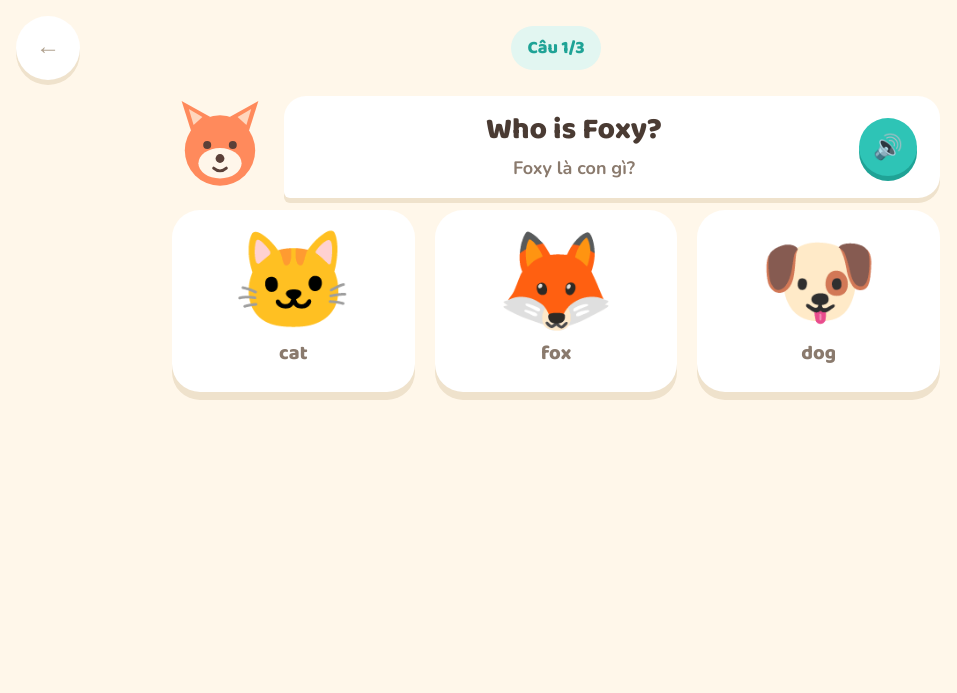
Test: 0 correct: 0 stars, idle Foxy, no store write, activity still logged
Click the button "🐱 cat" at (293, 300), box [172, 210, 415, 392]
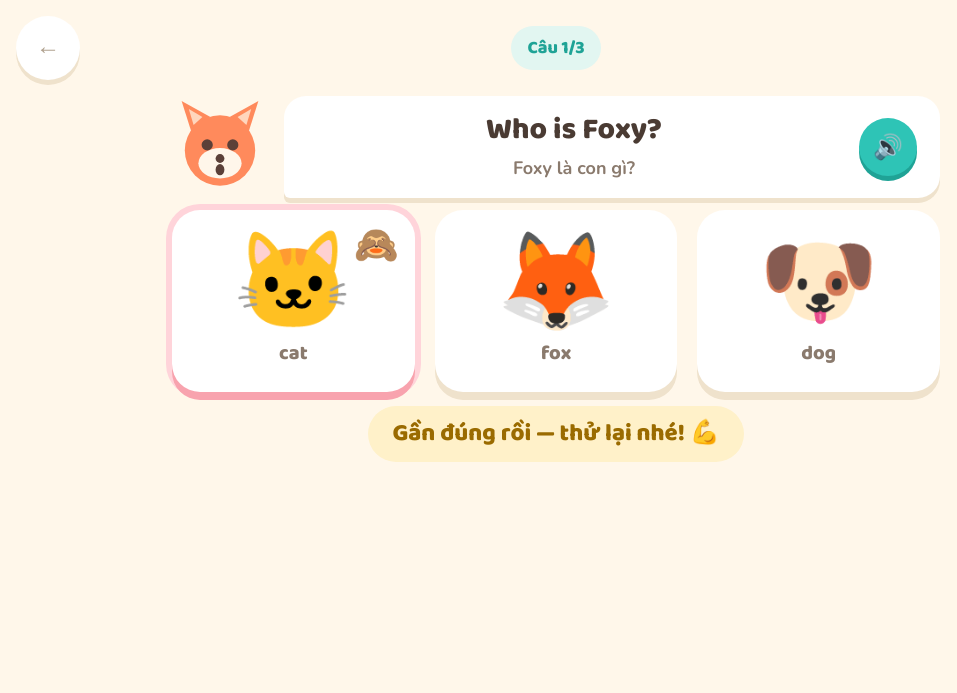
Click the button "🦊 fox" at (556, 300), box [435, 210, 677, 392]
Wait 900 ms
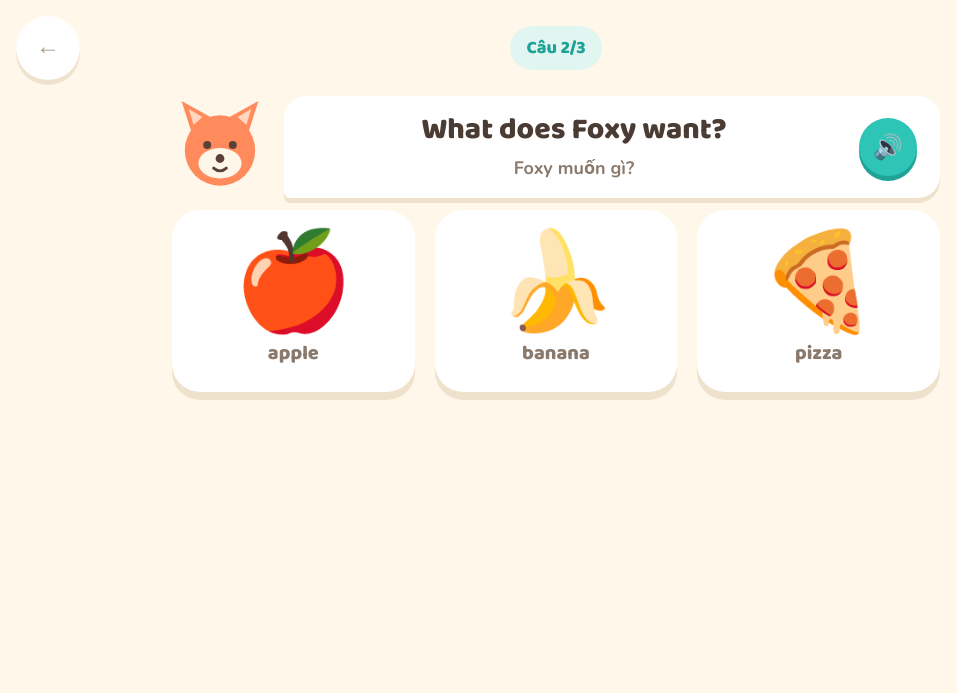
Click the button "🍌 banana" at (556, 300), box [435, 210, 677, 392]
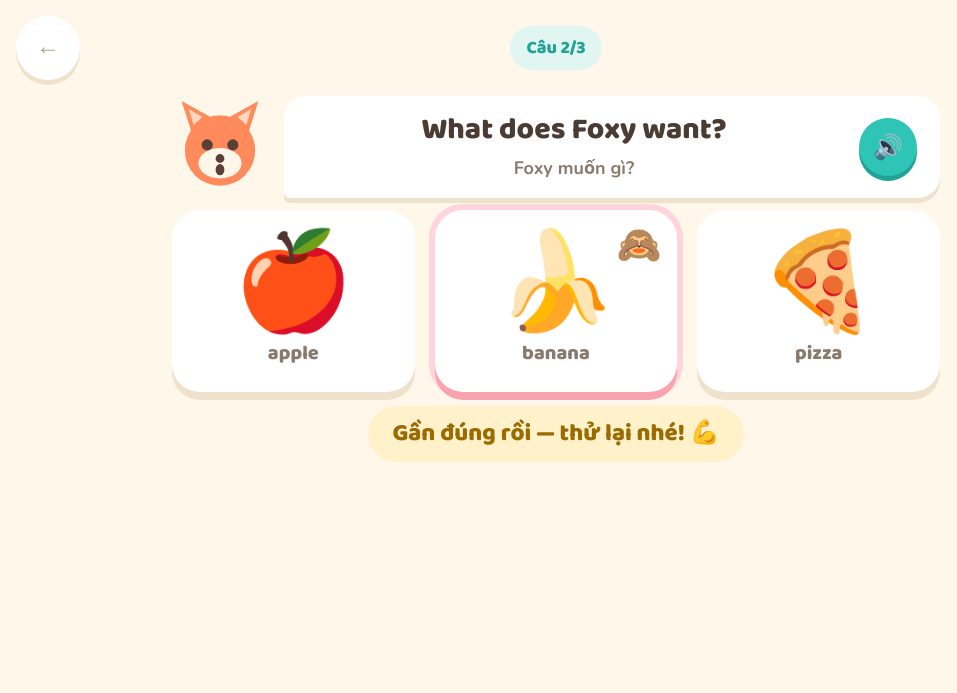
Click the button "🍎 apple" at (293, 300), box [172, 210, 415, 392]
Wait 900 ms
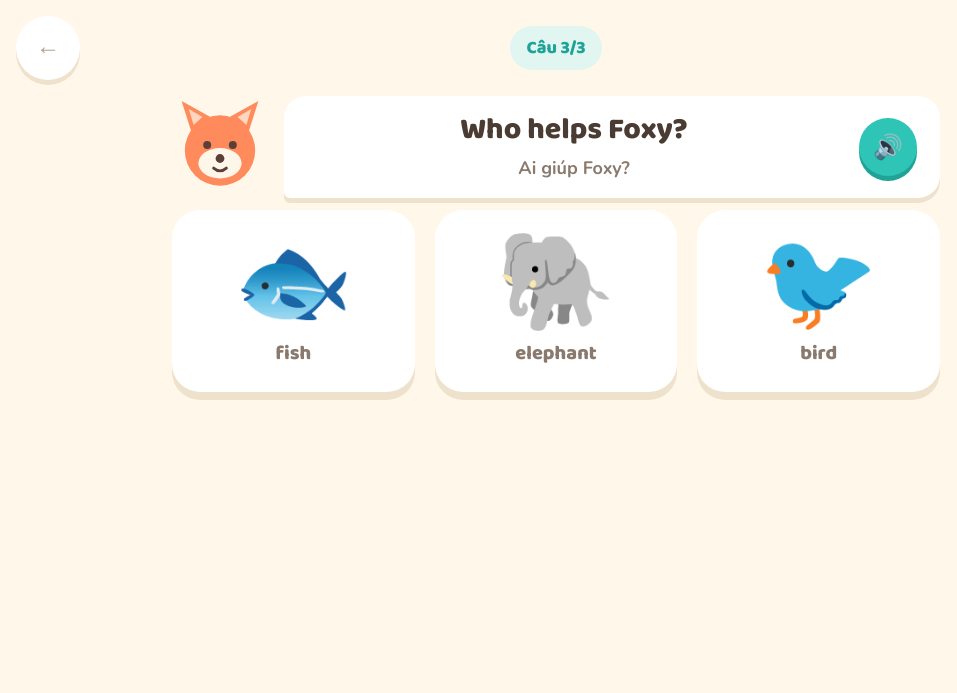
Click the button "🐟 fish" at (293, 300), box [172, 210, 415, 392]
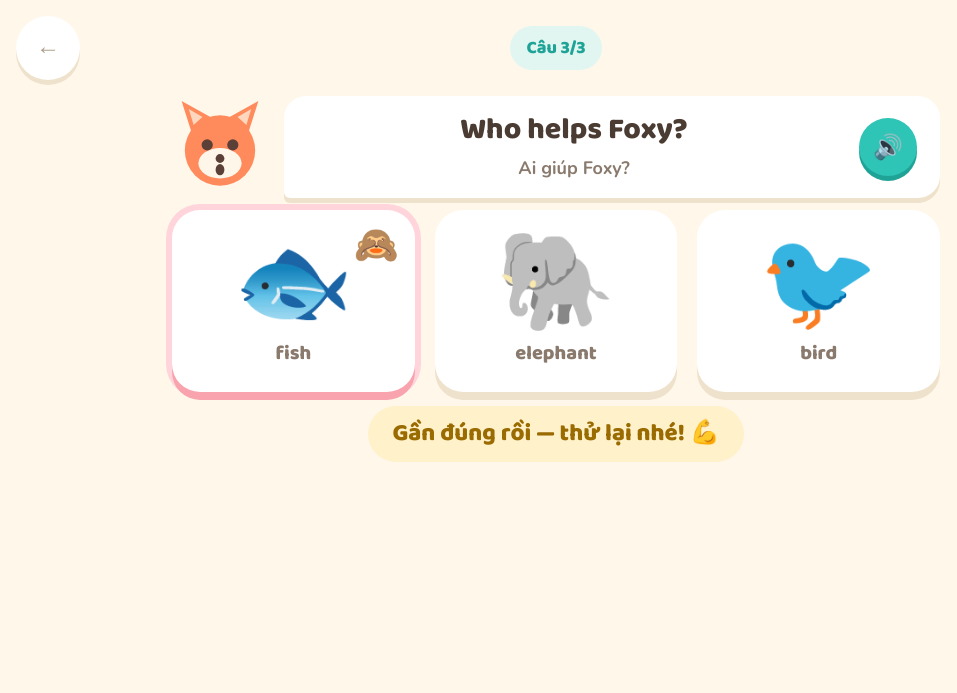
Click the button "🐦 bird" at (819, 300), box [697, 210, 940, 392]
Wait 900 ms
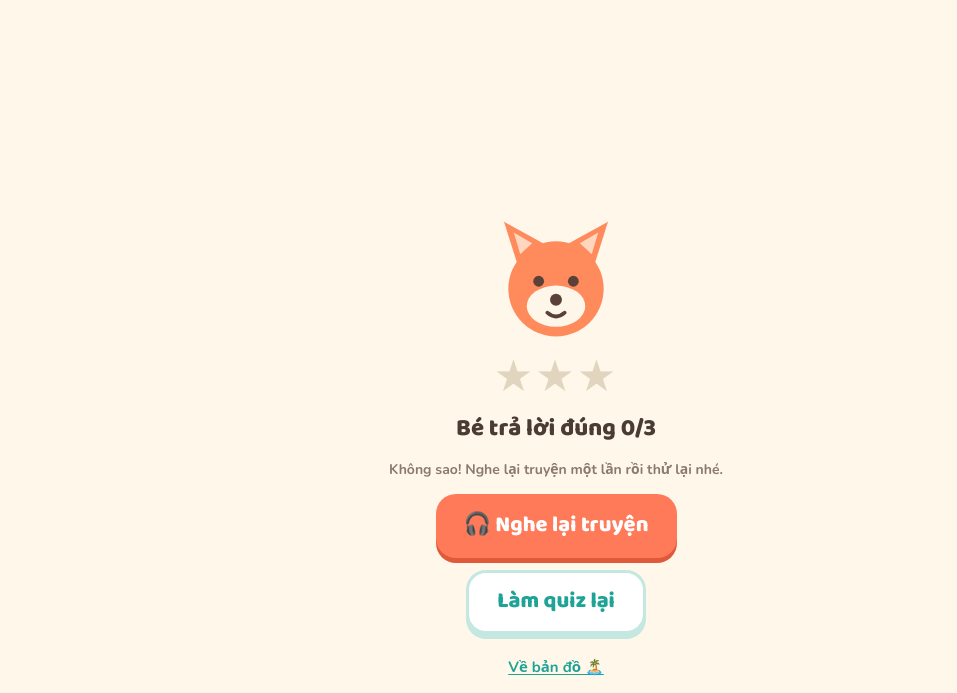
Check: the number of elements with test id "star-empty" is 3, box [494, 354, 535, 398]; [535, 354, 577, 398]; [577, 354, 618, 398]
Check: the text "Bé trả lời đúng 0/3" is shown, box [456, 412, 656, 444]
Check: the text "Không sao! Nghe lại truyện một lần rồi thử lại nhé." is shown, box [389, 458, 723, 480]
